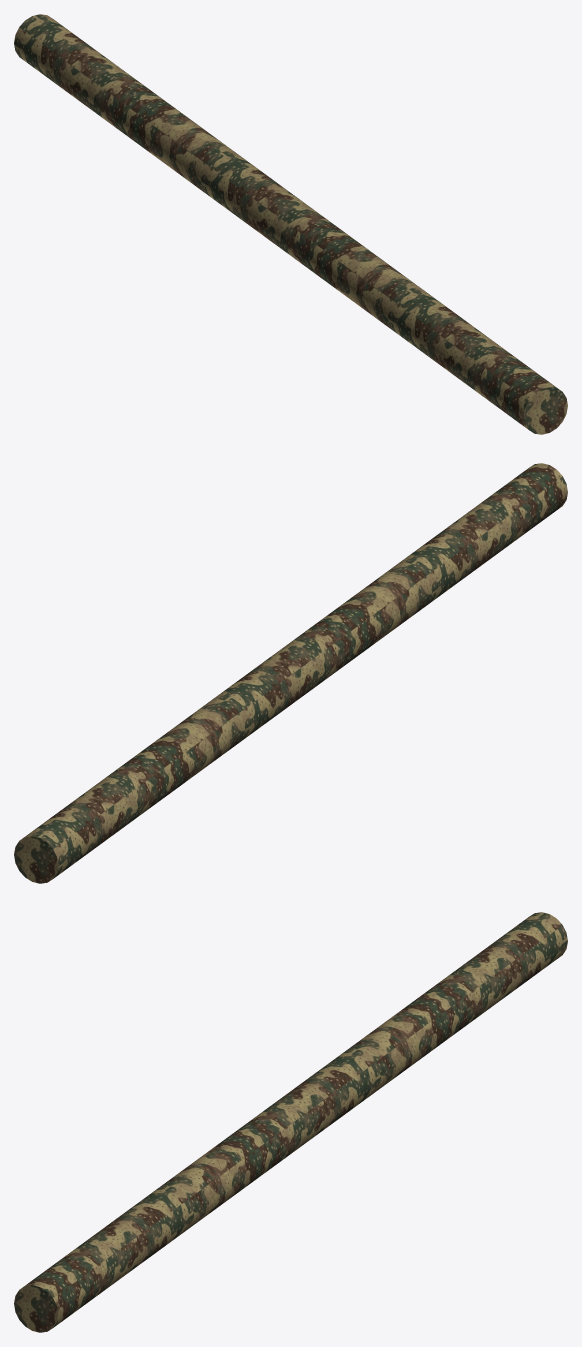
The model's file is Gun.fbx.
3 views of the same model, one above another, from view 1: azimuth 30°, elevation 25°; view 2: azimuth 150°, elevation 25°; view 3: azimuth 330°, elevation 25° (orthographic).
Parts seen in each view (by area): view 1: Gun; view 2: Gun; view 3: Gun.
Boxes of the visible parts, bbox=[...] form: Gun: bbox=[14, 14, 567, 434]; Gun: bbox=[14, 463, 567, 883]; Gun: bbox=[14, 912, 567, 1332].
Bounding box in the file's own units: 1.91 × 1.88 × 37.96.
